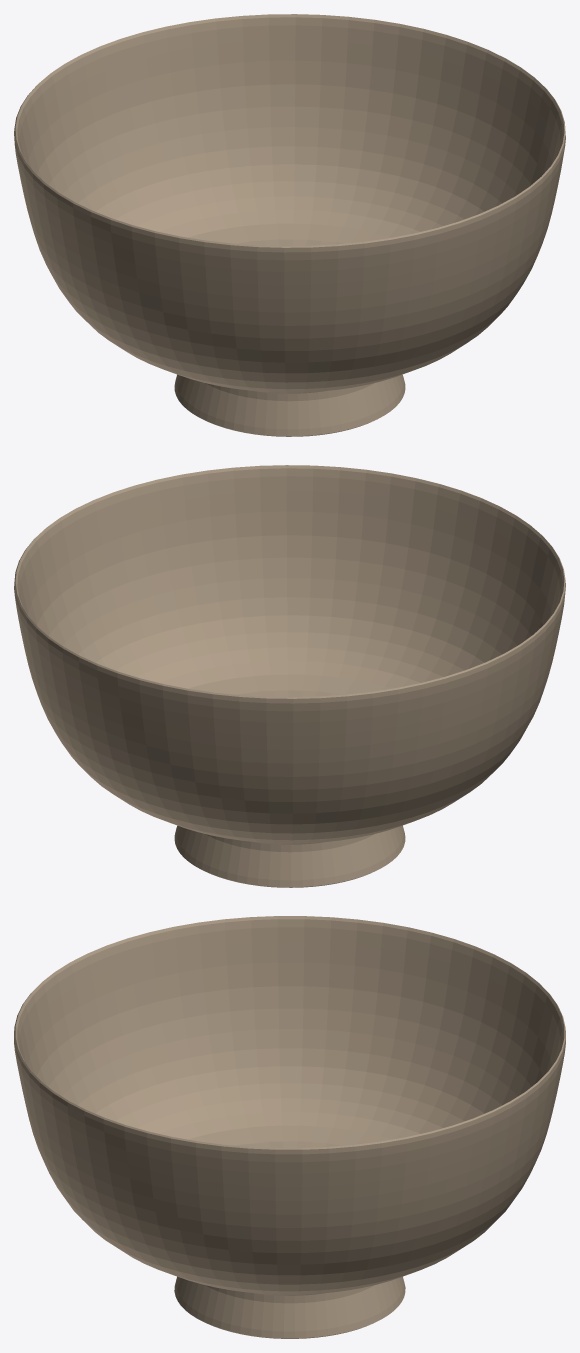
File: shikki_2.glb
3 views of the same model, one above another, from view 1: azimuth 30°, elevation 25°; view 2: azimuth 150°, elevation 25°; view 3: azimuth 270°, elevation 25° (orthographic).
Parts seen in each view (by area): view 1: wan; view 2: wan; view 3: wan.
Part boxes in pixels (box(x1,y1,x2,y2)): wan: box(14, 14, 565, 436); wan: box(14, 465, 565, 887); wan: box(14, 916, 565, 1338).
Bounding box in the file's own units: 8.53 × 4.42 × 8.53.
